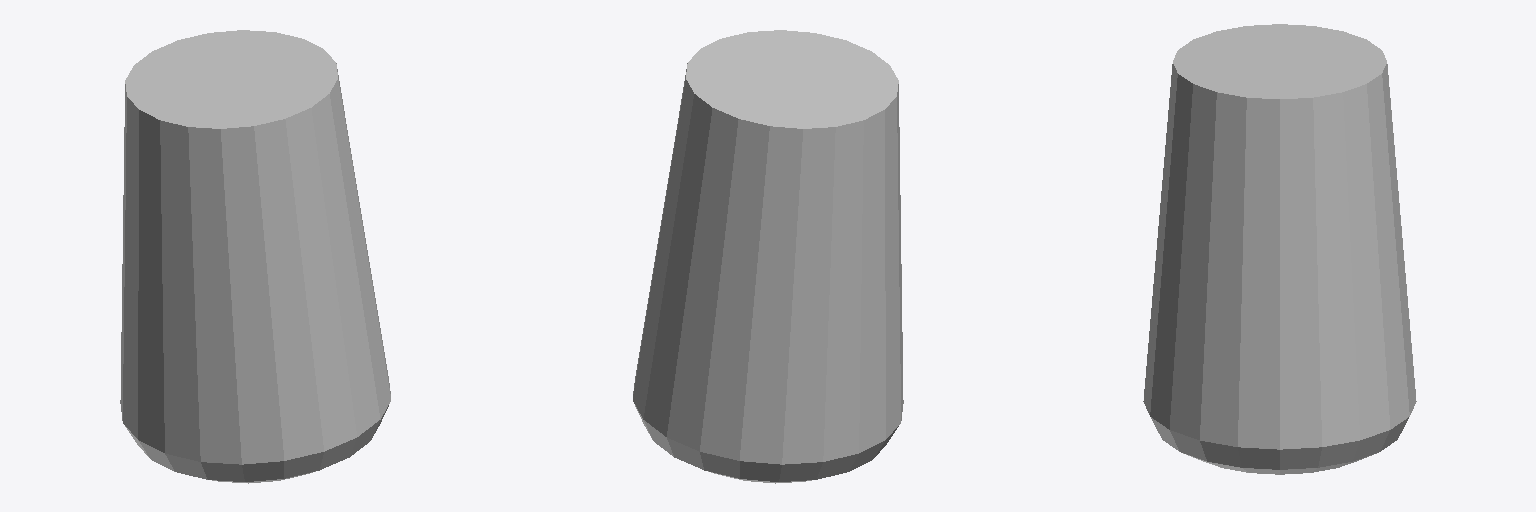
Rendered from player_pants_left.obj.
3 renders of one model, left to right at view 1: azimuth 30°, elevation 25°; view 2: azimuth 150°, elevation 25°; view 3: azimuth 270°, elevation 25°, orthographic.
Visible parts, largest first — view 1: pants_left; view 2: pants_left; view 3: pants_left.
Part boxes in pixels (x1,y1,x2,y2): pants_left: (120, 30, 390, 483); pants_left: (633, 30, 903, 483); pants_left: (1143, 24, 1416, 474).
Size of the model in its own units: 0.4702 by 0.7235 by 0.4716.